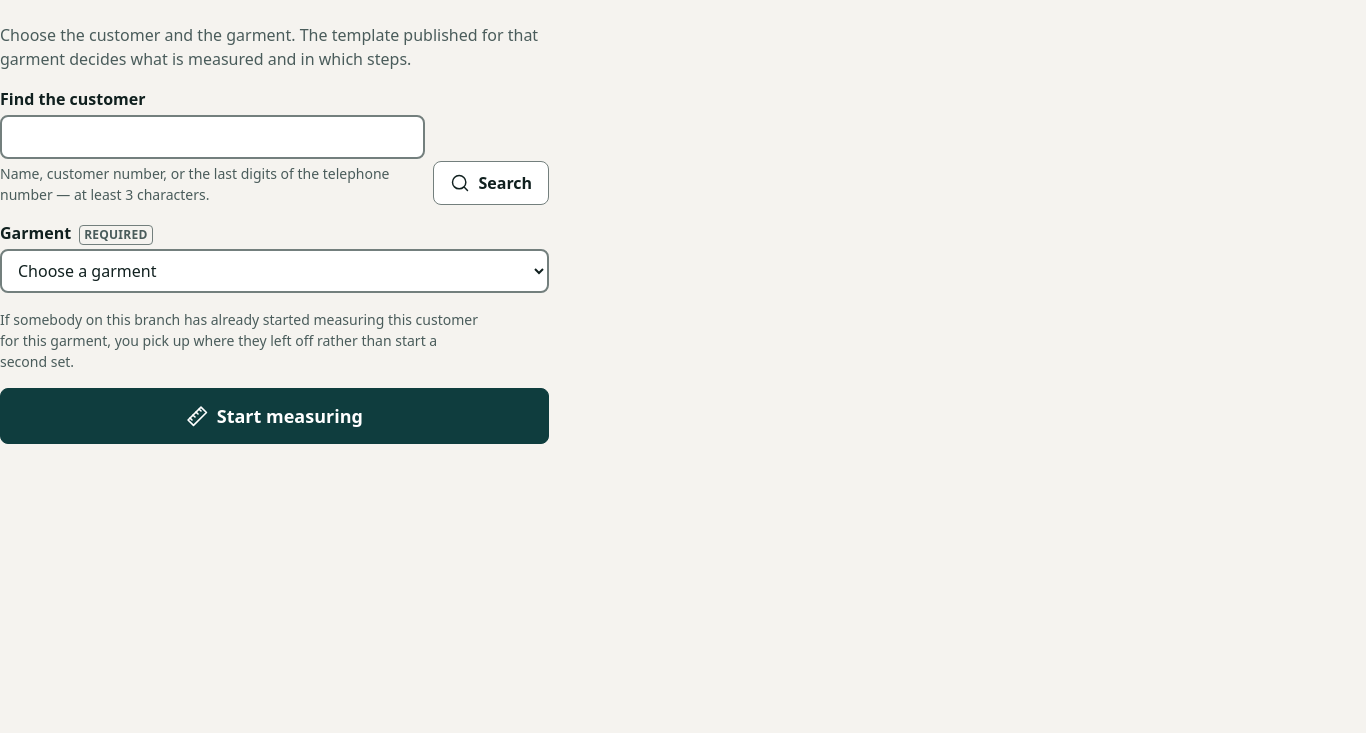
correcting a measurement › does not record a correction when starting resumed an open draft instead of pre-filling one
Type "Asha" into the search field labelled "Find the customer" at [213, 137], box [0,115,426,159]
Then press Enter
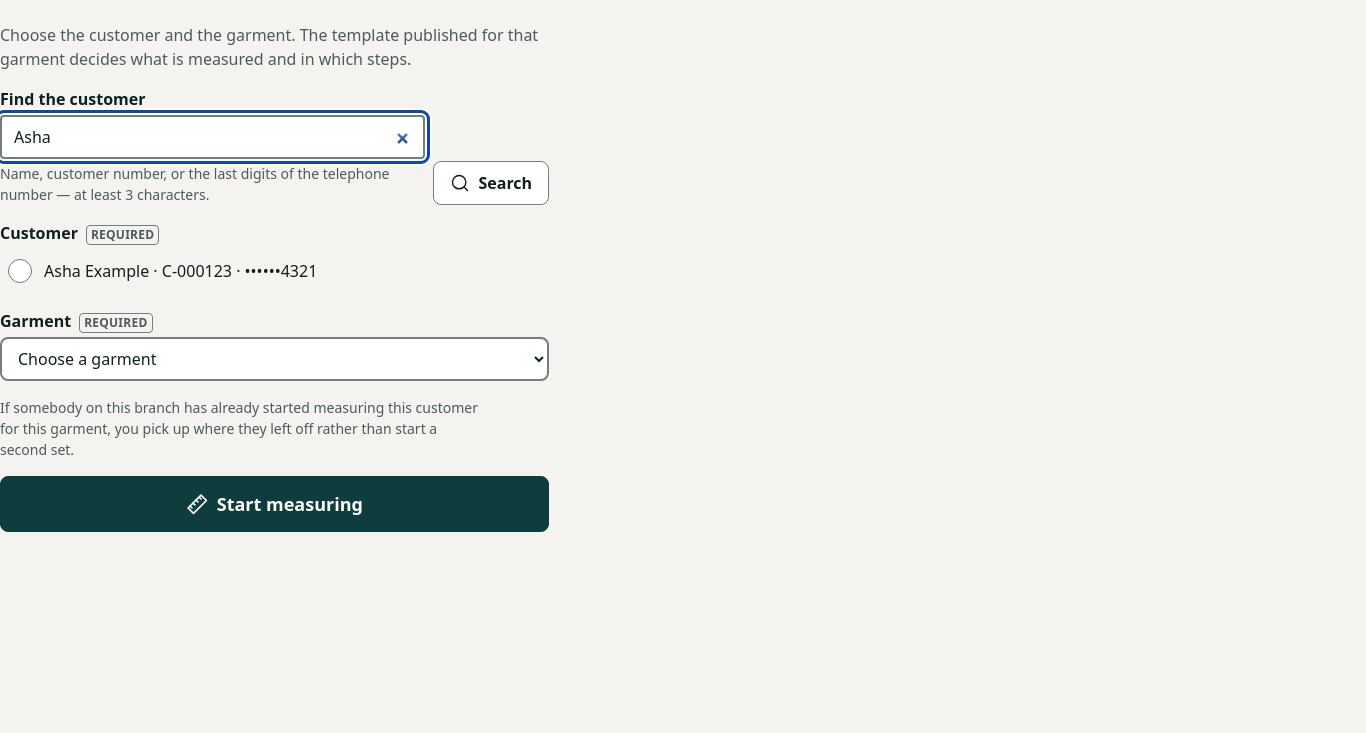
Click the radio button labelled "Asha Example · C-000123 · ••••••4321" at [20, 271], box [8,259,32,283]
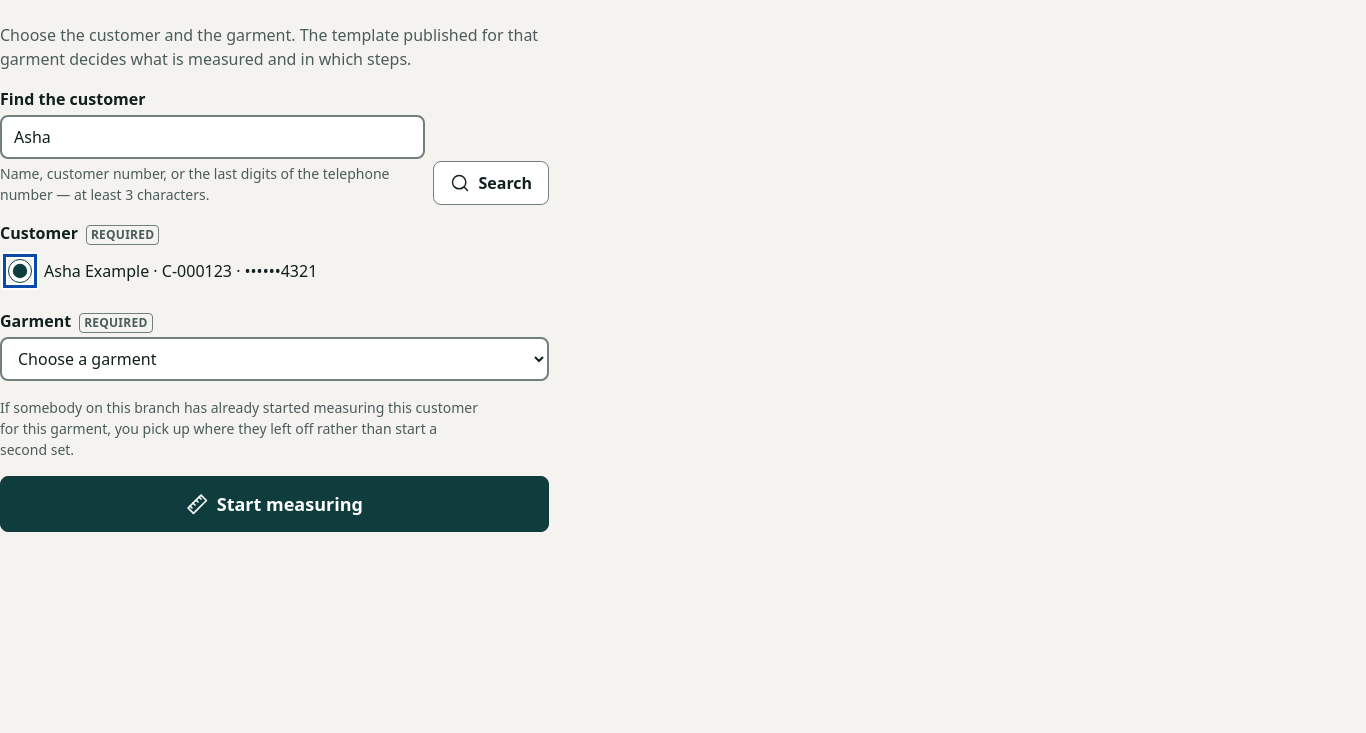
Select "Pattern work — Blouse" in the dropdown labelled "Garment" at [275, 359], box [0,337,549,381]
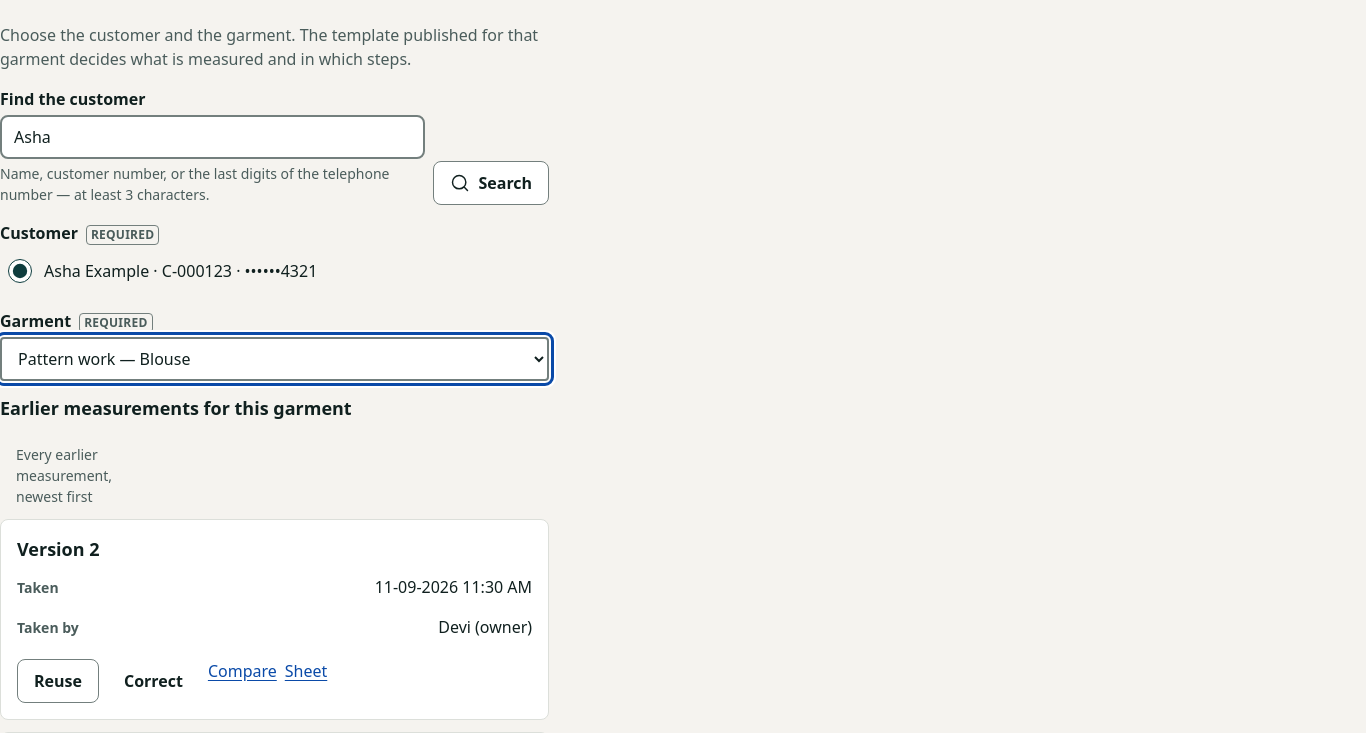
Expected: the heading "Earlier measurements for this garment" is shown, [0,396,352,420]
Click the button with aria-label "Correct version 2" at [153, 681], box [107,659,200,703]
(page scrolled)
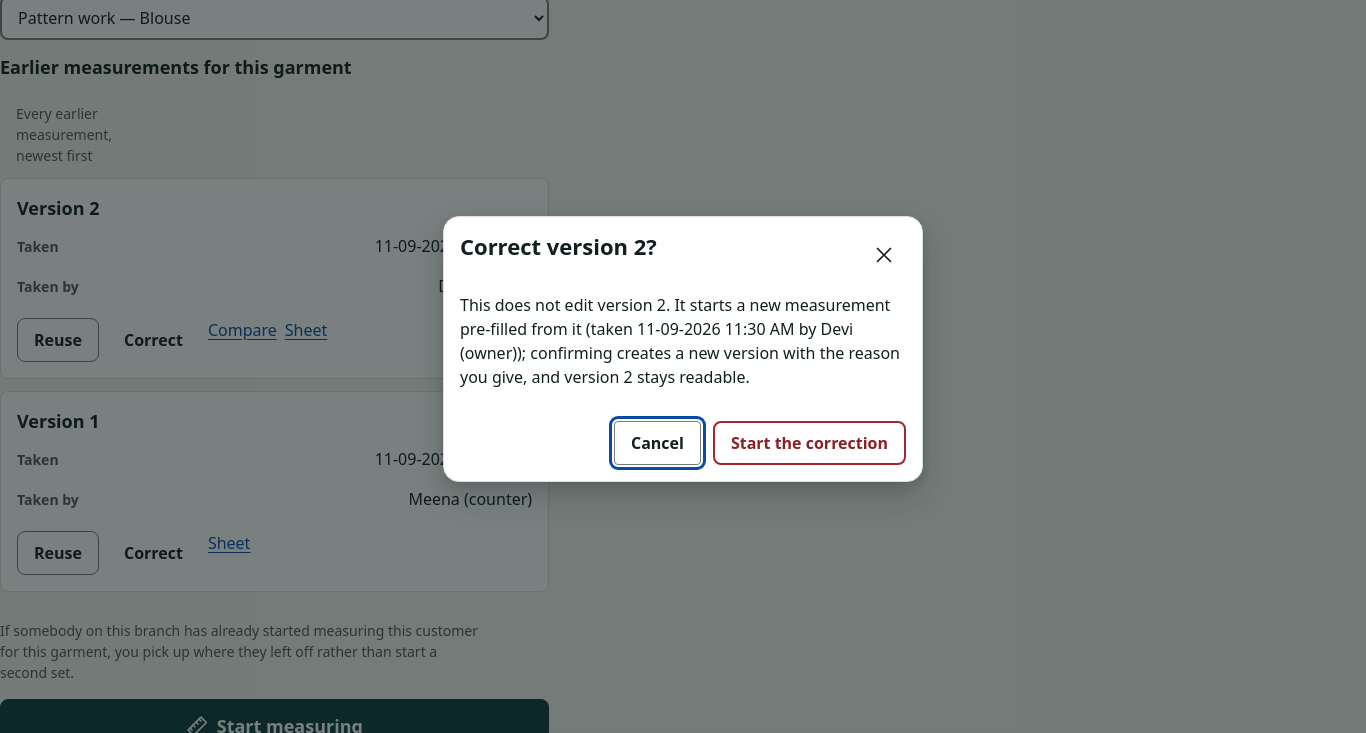
Click the button "Start the correction" at [809, 443], box [713,421,906,465]
(page scrolled)
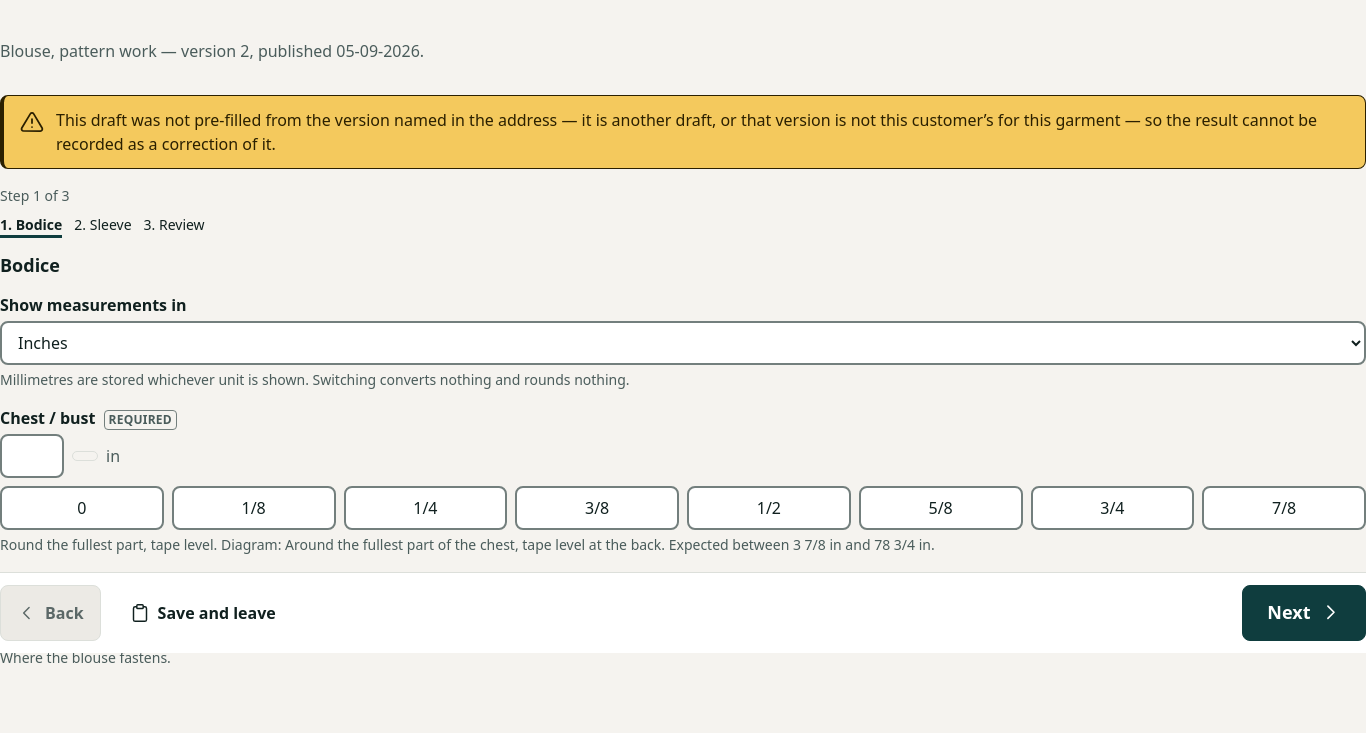
Expected: the heading "Bodice" is shown, [0,253,60,277]
Expected: the text "was not pre-filled from the version named in the address" is shown, [56,109,1317,155]
